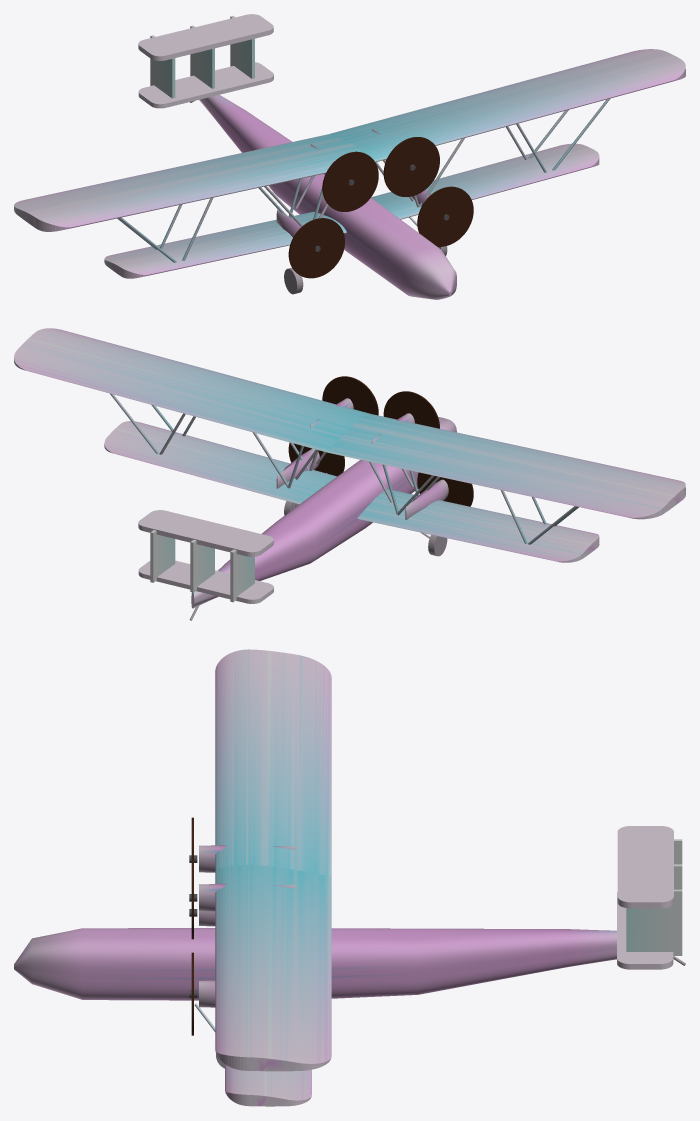
The picture shows the model from 3 angles, top to bottom: view 1: azimuth 30°, elevation 25°; view 2: azimuth 150°, elevation 25°; view 3: azimuth 270°, elevation 25°; orthographic projection. The views are drawn at different scales.
Visible parts, largest first — view 1: upper, hull, lower, upper_tailplane, propeller_disc.003, propeller_disc.002, propeller_disc.001, propeller_disc, tailplane, fin, fin.001, fin.002; view 2: upper, lower, hull, upper_tailplane, tailplane, propeller_disc.001, propeller_disc.003, fin.002, fin, fin.001, propeller_disc.002, nacelle.002 (+2 smaller); view 3: upper, hull, upper_tailplane, lower, fin.002, tailplane.
Boxes of the visible parts, x1,y1,x2,y2 form: upper: (14, 49, 685, 231); hull: (199, 95, 456, 299); lower: (104, 143, 599, 278); upper_tailplane: (138, 14, 273, 60); propeller_disc.003: (322, 151, 378, 211); propeller_disc.002: (288, 218, 344, 278); propeller_disc.001: (383, 137, 439, 196); propeller_disc: (417, 186, 473, 246); tailplane: (138, 62, 273, 108); fin: (150, 35, 175, 98); fin.001: (190, 25, 214, 88); fin.002: (230, 16, 254, 78); upper: (14, 328, 685, 519); lower: (104, 421, 599, 562); hull: (191, 417, 456, 608); upper_tailplane: (138, 510, 273, 556); tailplane: (138, 560, 273, 603); propeller_disc.001: (322, 376, 378, 415); propeller_disc.003: (383, 391, 439, 428); fin.002: (150, 530, 175, 582); fin: (230, 549, 254, 602); fin.001: (190, 540, 214, 592); propeller_disc.002: (417, 472, 473, 506); nacelle.002: (405, 479, 448, 519); upper: (215, 649, 331, 1071); hull: (14, 928, 616, 1000); upper_tailplane: (617, 826, 673, 908); lower: (225, 1064, 311, 1106); fin.002: (626, 889, 682, 955); tailplane: (617, 892, 673, 969).
Size of the model in its own units: 28.51 by 5.94 by 19.84.
